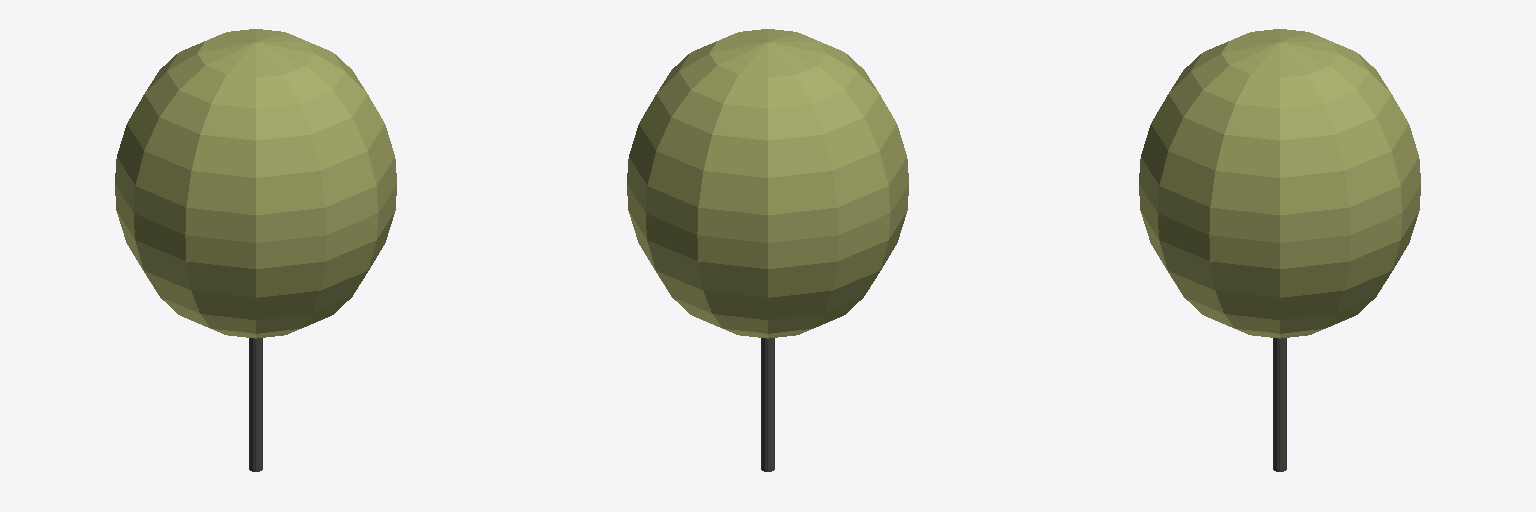
The model's file is Common_Whitebeam_Analytical_0.obj.
3 renders of one model, left to right at view 1: azimuth 30°, elevation 25°; view 2: azimuth 150°, elevation 25°; view 3: azimuth 270°, elevation 25°, orthographic.
Visible parts, largest first — view 1: AnalyticalCrown, AnalyticalTrunk; view 2: AnalyticalCrown, AnalyticalTrunk; view 3: AnalyticalCrown, AnalyticalTrunk.
Part boxes in pixels (bbox=[...]): AnalyticalCrown: bbox=[115, 29, 396, 338]; AnalyticalTrunk: bbox=[249, 338, 262, 471]; AnalyticalCrown: bbox=[627, 29, 908, 338]; AnalyticalTrunk: bbox=[761, 338, 774, 471]; AnalyticalCrown: bbox=[1139, 29, 1420, 338]; AnalyticalTrunk: bbox=[1273, 338, 1286, 471].
Bounding box in the file's own units: 12 × 20 × 12.